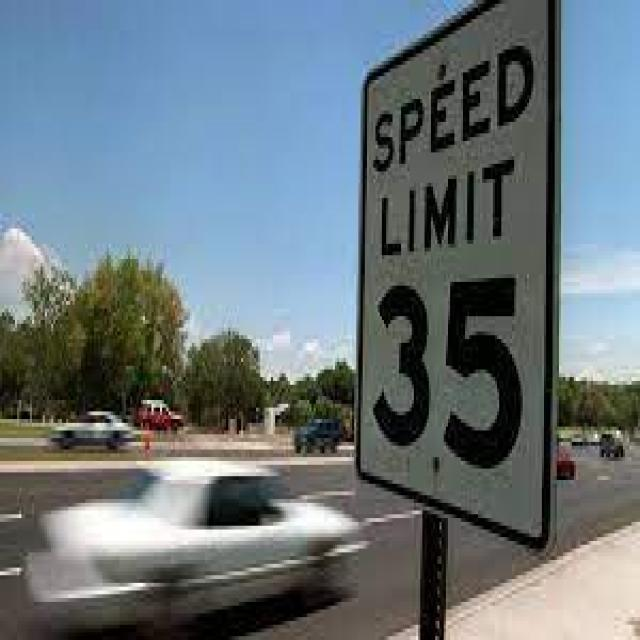speedLimit35: (353, 8, 558, 548)
